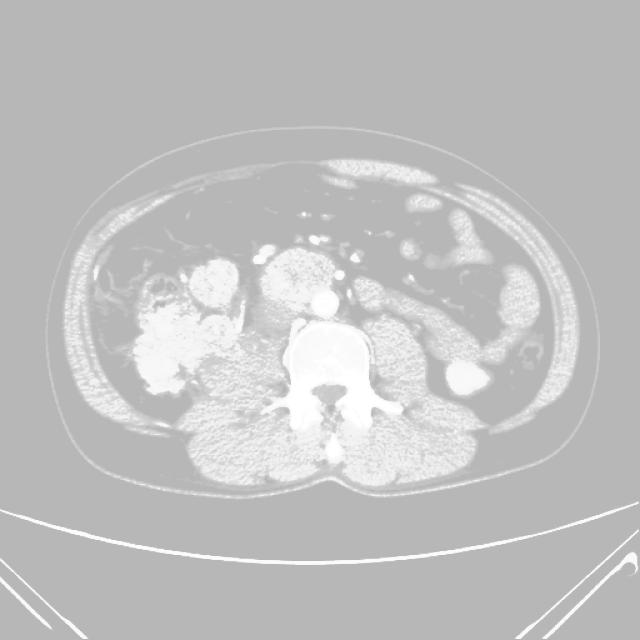TUMOR: (91, 193, 566, 457)
